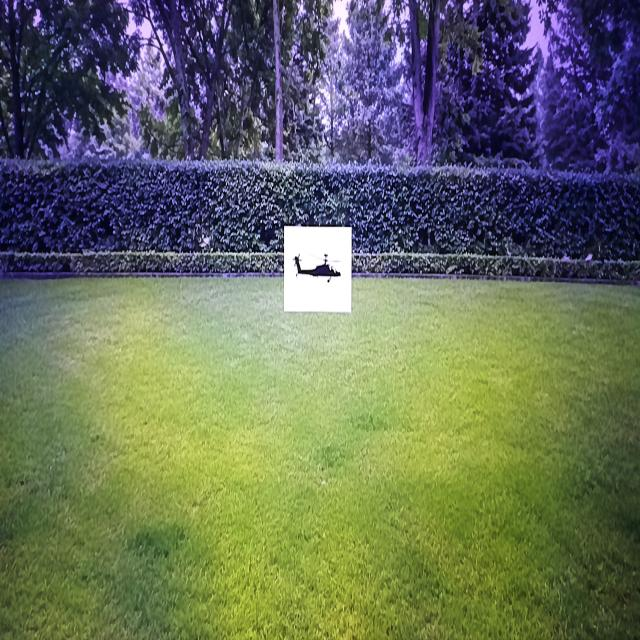Apache friendly: (294, 254, 340, 281)
